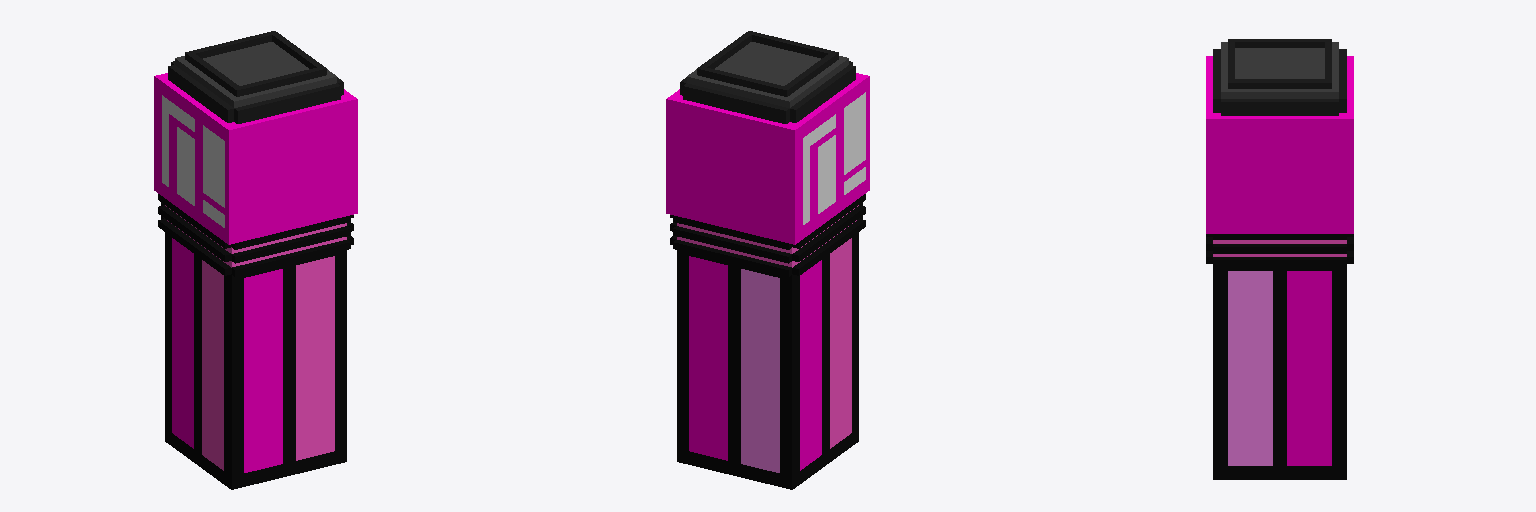
The picture shows the model from 3 angles: view 1: azimuth 30°, elevation 25°; view 2: azimuth 150°, elevation 25°; view 3: azimuth 270°, elevation 25°; orthographic projection.
Parts seen in each view (by area): view 1: object 1; view 2: object 1; view 3: object 1.
Part boxes in pixels (x1,y1,x2,y2): object 1: (154, 31, 357, 489); object 1: (666, 31, 869, 489); object 1: (1206, 39, 1353, 479).
Size of the model in its own units: 2 by 5.8 by 2.
1 materials, 1 textured.